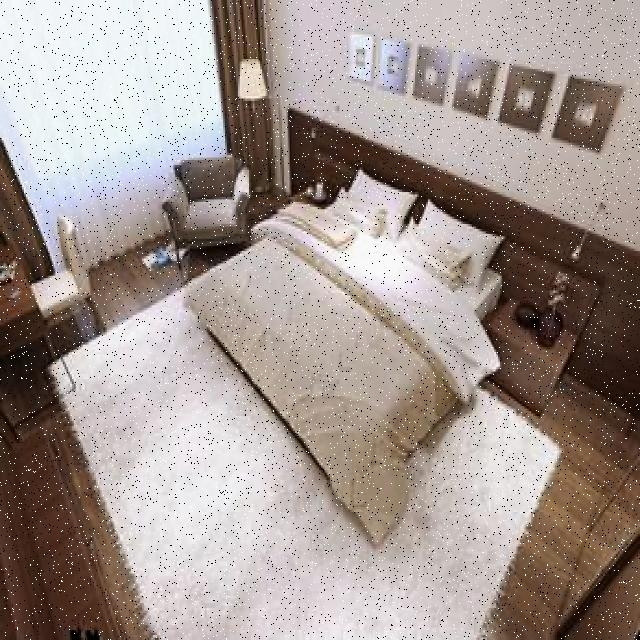bed: (191, 158, 517, 477)
